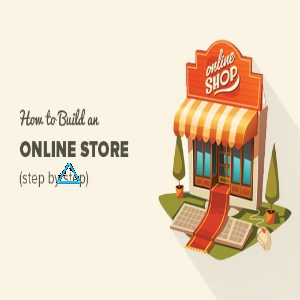triangle: (57, 158, 82, 185)
